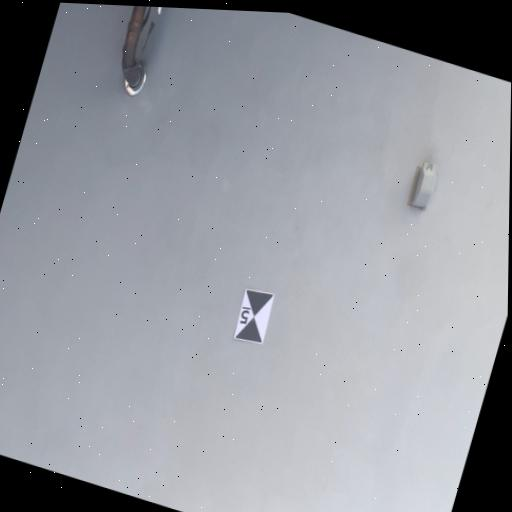target5: (233, 289, 274, 344)
